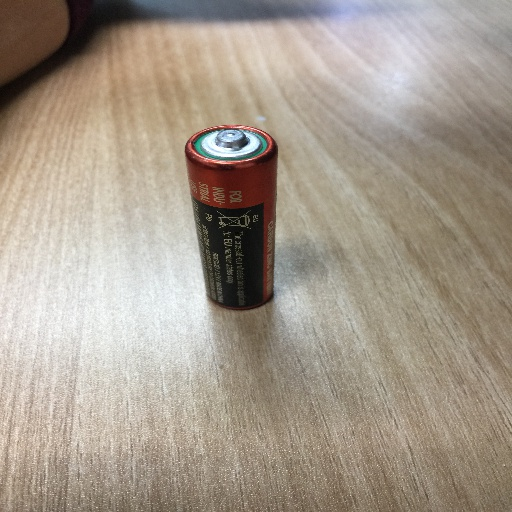Battery_0: (173, 112, 296, 326)
